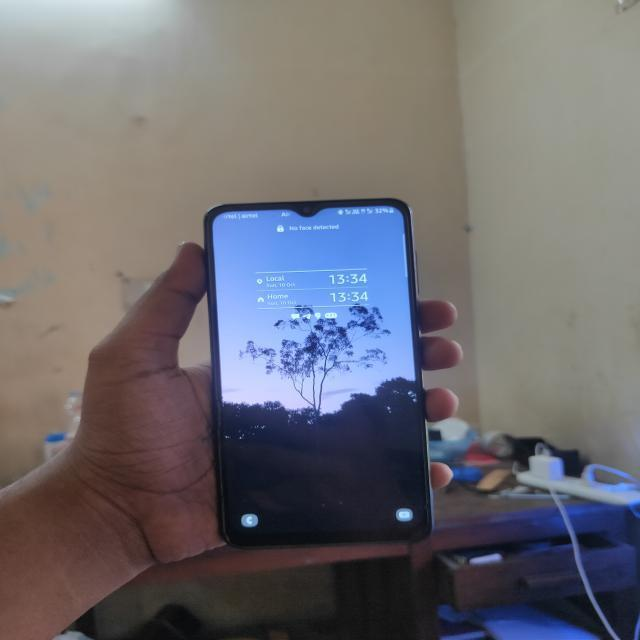Phone: (200, 195, 437, 554)
